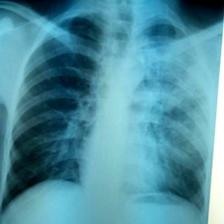tuberculosis: (0, 0, 213, 224)
